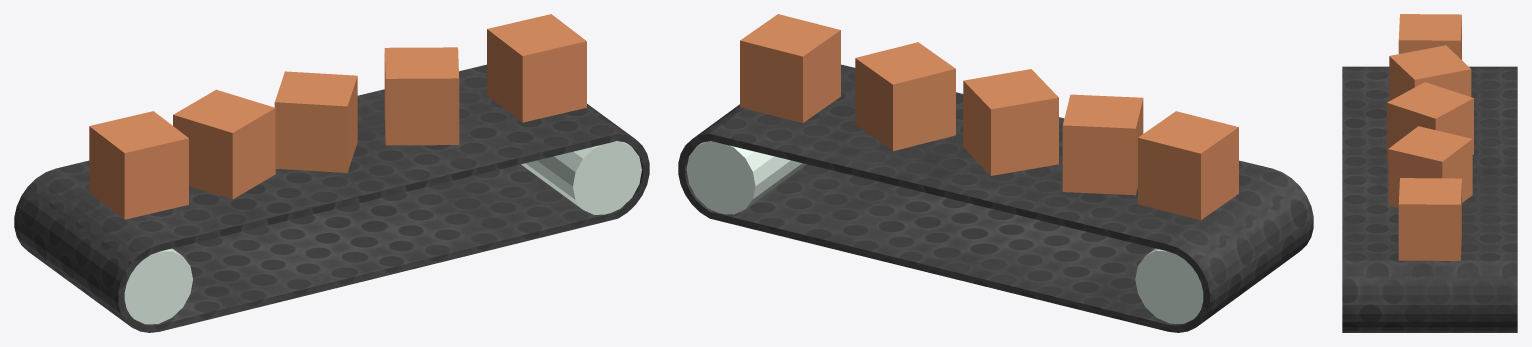
The model's file is conveyor-belt.glb.
The picture shows the model from 3 angles, left to right: view 1: azimuth 30°, elevation 25°; view 2: azimuth 150°, elevation 25°; view 3: azimuth 270°, elevation 25°; orthographic projection. The views are drawn at different scales.
Parts seen in each view (by area): view 1: belt, box.005, box.004, box.003, box.002, box.001, 柱体.001, 柱体; view 2: belt, box.004, box.001, box.005, box.002, box.003, 柱体.001, 柱体; view 3: belt, box.005, box.001, box.002, box.003, box.004.
Boxes of the visible parts, x1=… form: belt: x1=14, y1=64, x2=649, y2=332; box.005: x1=487, y1=14, x2=586, y2=122; box.004: x1=89, y1=111, x2=188, y2=219; box.003: x1=173, y1=89, x2=275, y2=199; box.002: x1=274, y1=71, x2=357, y2=172; box.001: x1=384, y1=47, x2=459, y2=145; 柱体.001: x1=521, y1=141, x2=641, y2=214; 柱体: x1=124, y1=248, x2=192, y2=324; belt: x1=678, y1=64, x2=1313, y2=332; box.004: x1=1138, y1=111, x2=1238, y2=220; box.001: x1=855, y1=42, x2=955, y2=150; box.005: x1=740, y1=14, x2=840, y2=122; box.002: x1=963, y1=69, x2=1058, y2=175; box.003: x1=1062, y1=94, x2=1143, y2=195; 柱体.001: x1=686, y1=141, x2=806, y2=214; 柱体: x1=1135, y1=248, x2=1203, y2=323; belt: x1=1342, y1=66, x2=1517, y2=332; box.005: x1=1398, y1=178, x2=1461, y2=260; box.001: x1=1388, y1=126, x2=1472, y2=207; box.002: x1=1387, y1=82, x2=1473, y2=158; box.003: x1=1389, y1=45, x2=1471, y2=100; box.004: x1=1398, y1=14, x2=1461, y2=59.
Bounding box in the file's own units: 12.75 × 3.53 × 4.32.
Materials: 3 (1 with a texture image).
